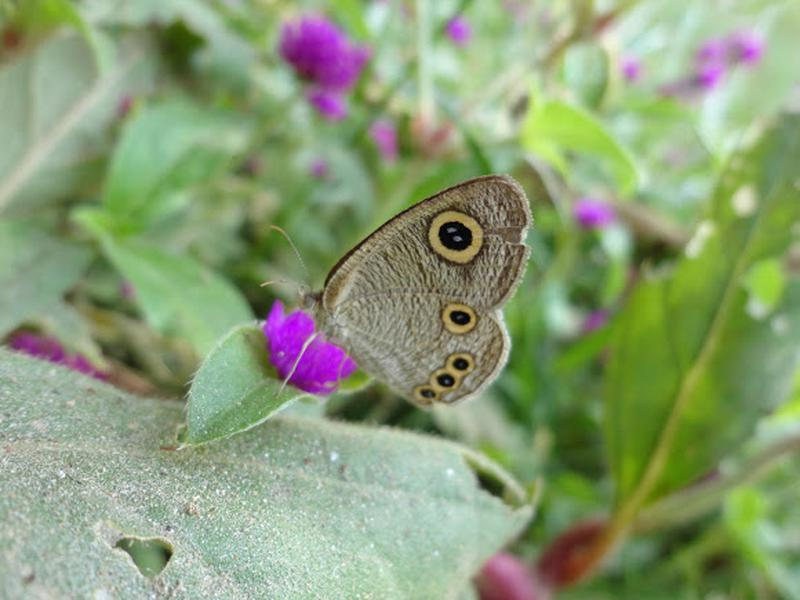Rice_horned_caterpillar: (237, 160, 562, 434)
